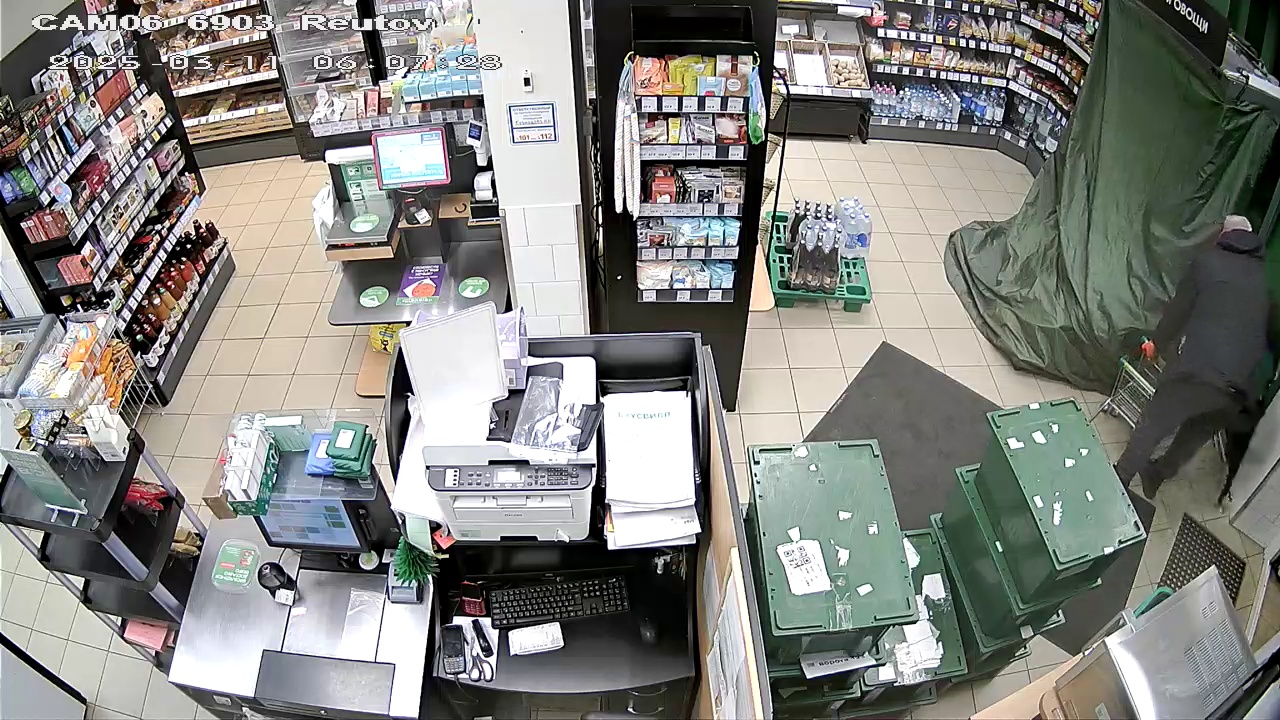Human: (1129, 209, 1269, 515)
dome: (946, 7, 1274, 379)
